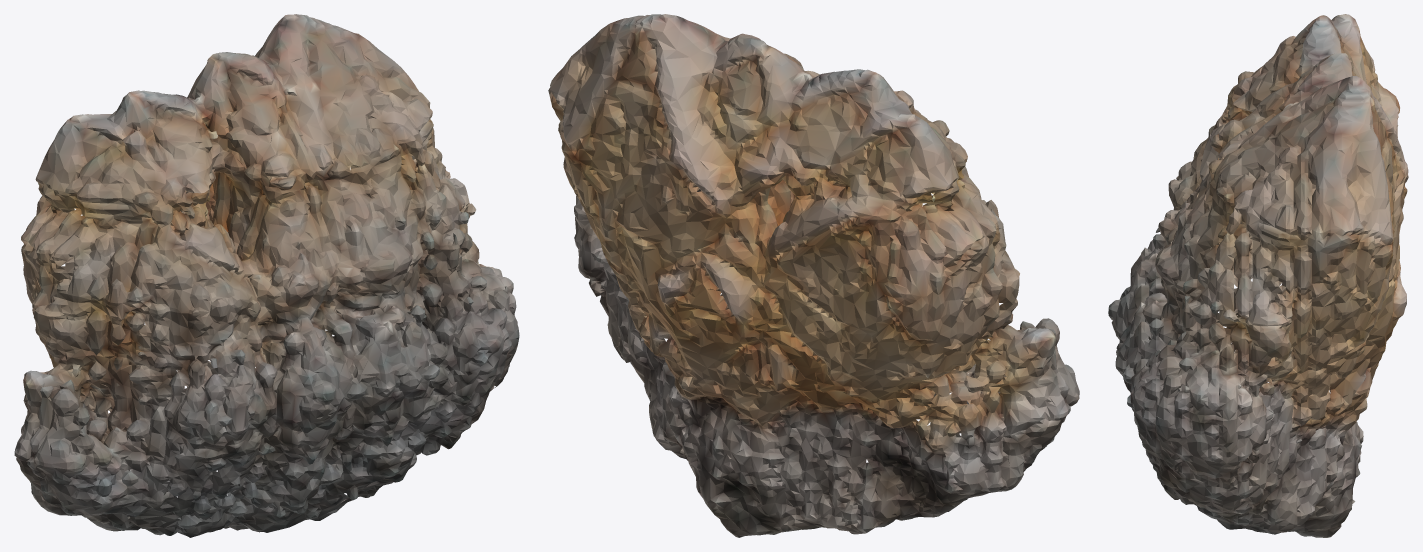
File: crystal.glb
3 renders of one model, left to right at view 1: azimuth 30°, elevation 25°; view 2: azimuth 150°, elevation 25°; view 3: azimuth 270°, elevation 25°, orthographic. The views are drawn at different scales.
Visible parts, largest first — view 1: world; view 2: world; view 3: world.
Part boxes in pixels (<box>): world: <box>14,14,519,537</box>; world: <box>548,14,1079,537</box>; world: <box>1108,14,1408,537</box>.
Bounding box in the file's own units: 1.01 × 0.981 × 0.5513.
